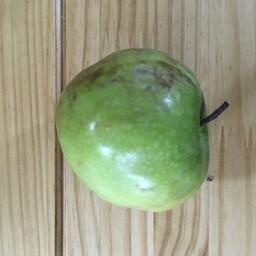Bad_apple: (50, 44, 208, 218)
